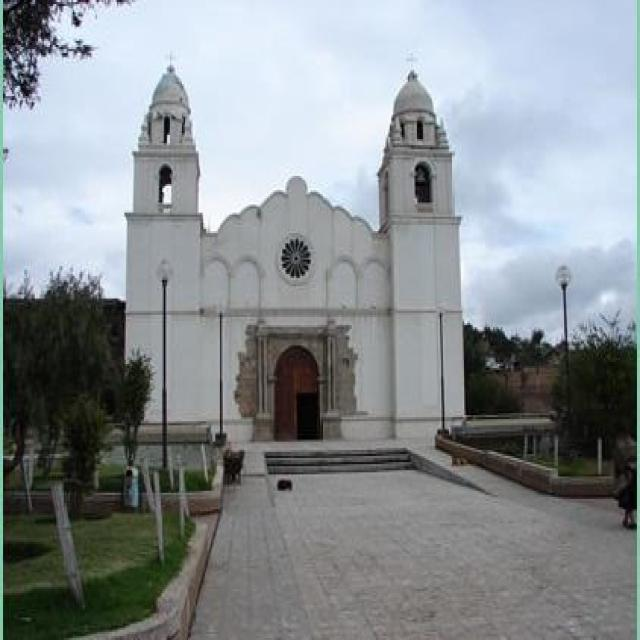CAMPANARIO: (123, 134, 210, 224), (379, 135, 461, 223)
CUPULA: (141, 55, 201, 129), (389, 67, 455, 133)
PORTADA CENTRAL: (256, 321, 337, 454)
SIMETRIA COLONIAL: (110, 36, 491, 459)
TORRES: (115, 44, 227, 447), (371, 67, 477, 442)
colonial-architecture-: (0, 0, 572, 466)
